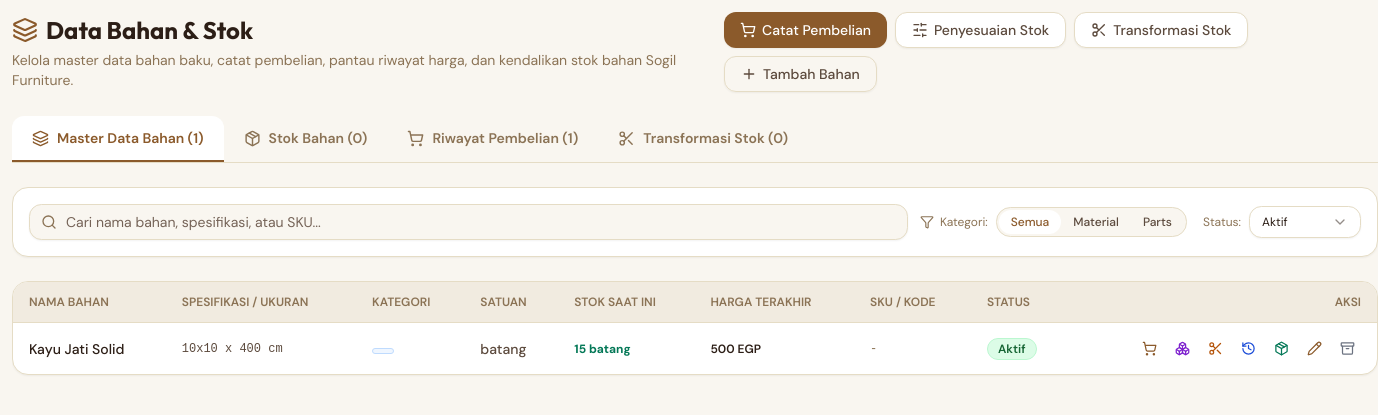
Test: Phase 10: Multi-Buyer Material Purchase Wages Frontend Suite › 2. UI Rendering and Multi-Buyer Interaction › loads material purchase wage policy on mount and displays multi-buyer history
Click the button "Riwayat Pembelian (1)": (493, 139) 387,116 -> 598,162
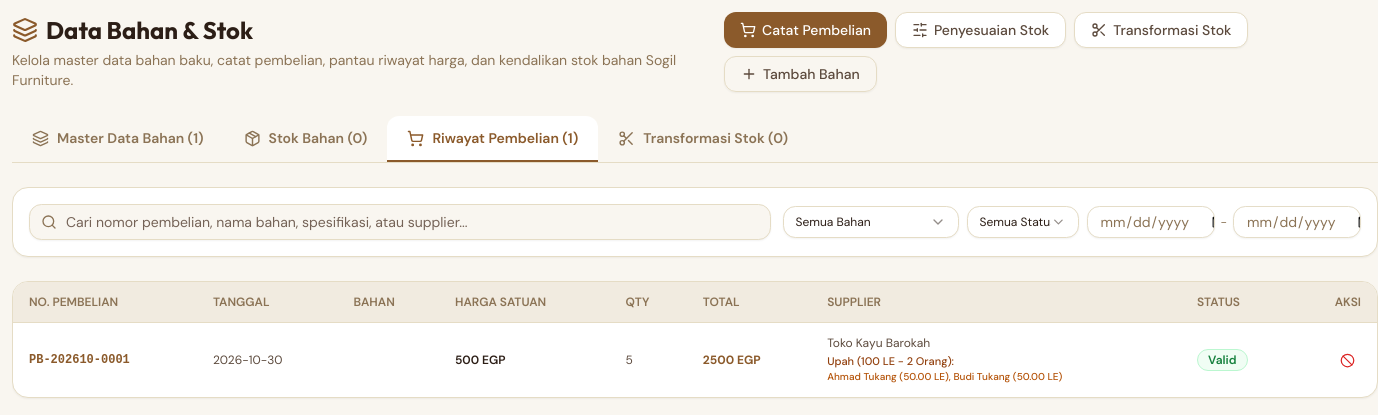
Now the text "Upah (100 LE - 2 Orang)" is shown, box 827,354 -> 954,368
Now the text "Ahmad Tukang (50.00 LE)" is shown, box 827,370 -> 1062,383
Now the text "Budi Tukang (50.00 LE)" is shown, box 827,370 -> 1062,383
